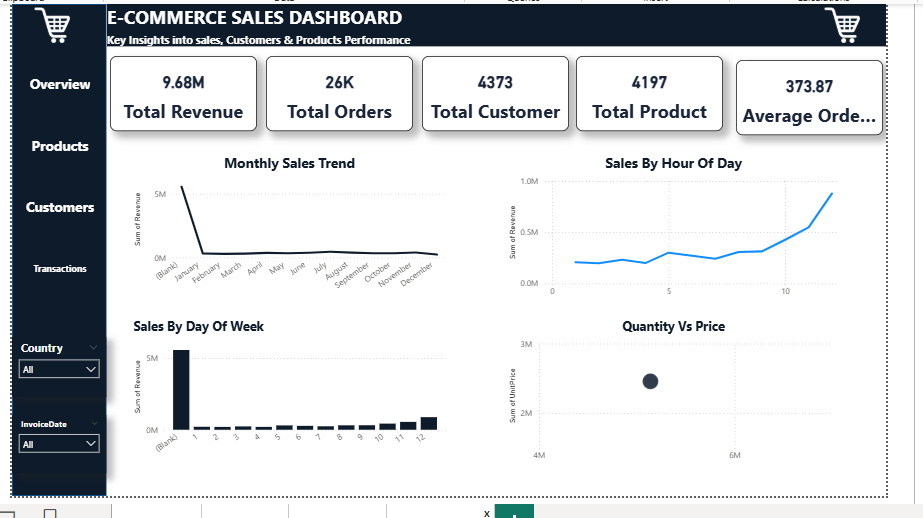

The page's visual inventory and layout, read from the dashboard file:
{"tool":"powerbi","page":{"name":"Transactions","canvas":[1280,720],"ordinal":3},"visuals":[{"type":"shape","box":[0,0,138.3,720],"z":0},{"type":"shape","title":"E-COMMERCE SALES DASHBOARD","box":[138.3,0,1141.7,61.7],"z":1000},{"type":"card","fields":{"Values":["E-commerce .Total Revenue"]},"box":[143.3,76.7,215,110],"z":2000},{"type":"card","fields":{"Values":["E-commerce .Total Orders"]},"box":[371.7,76.7,215,110],"z":3000},{"type":"card","fields":{"Values":["E-commerce .Total Customer"]},"box":[600,76.7,215,110],"z":4000},{"type":"card","fields":{"Values":["E-commerce .Total Product"]},"box":[825,76.7,215,110],"z":5000},{"type":"card","fields":{"Values":["E-commerce .Average Order Value"]},"box":[1060,81.7,215,110],"z":6000},{"type":"lineChart","title":"Monthly Sales Trend","fields":{"Category":["E-commerce .InvoiceDate.Variation.Date Hierarchy.Month"],"Y":["Sum(E-commerce .Revenue)"]},"box":[173.3,218.3,466.7,230],"z":7000},{"type":"lineChart","title":"Sales By Hour Of Day","fields":{"Category":["E-commerce .InvoiceDate.Variation.Date Hierarchy.Day"],"Y":["Sum(E-commerce .Revenue)"]},"box":[721.7,218.3,493.3,230],"z":8000},{"type":"scatterChart","title":"Quantity Vs Price","fields":{"Y":["Sum(E-commerce .UnitPrice)"],"X":["Sum(E-commerce .Quantity)"],"Size":["Sum(E-commerce .Revenue)"]},"box":[721.7,458.3,493.3,230],"z":9000},{"type":"clusteredColumnChart","title":"Sales By Day Of Week","fields":{"Y":["Sum(E-commerce .Revenue)"],"Category":["E-commerce .InvoiceDate.Variation.Date Hierarchy.Day"]},"box":[173.3,458.3,466.7,230],"z":11000},{"type":"slicer","fields":{"Values":["E-commerce .Country"]},"box":[0,486.7,138.3,86.7],"z":12000},{"type":"slicer","fields":{"Values":["E-commerce .InvoiceDate"]},"box":[0,601.7,138.3,85],"z":13000},{"type":"pageNavigator","box":[10,76.7,120,353.3],"z":14000},{"type":"image","box":[1183.3,0,61.7,61.7],"z":15000},{"type":"image","box":[28.3,0,61.7,61.7],"z":16000}]}

Visuals, with their boxes on the page's 1280x720 design canvas (x1, y1, x2, y2). These are canvas units, not pixel positions in the 923x518 screenshot, which may show the page scaled, cropped or inside an application window:
shape: [left=0, top=0, right=138, bottom=720]
"E-COMMERCE SALES DASHBOARD" shape: [left=138, top=0, right=1280, bottom=62]
card - E-commerce .Total Revenue: [left=143, top=77, right=358, bottom=187]
card - E-commerce .Total Orders: [left=372, top=77, right=587, bottom=187]
card - E-commerce .Total Customer: [left=600, top=77, right=815, bottom=187]
card - E-commerce .Total Product: [left=825, top=77, right=1040, bottom=187]
card - E-commerce .Average Order Value: [left=1060, top=82, right=1275, bottom=192]
"Monthly Sales Trend" lineChart: [left=173, top=218, right=640, bottom=448]
"Sales By Hour Of Day" lineChart: [left=722, top=218, right=1215, bottom=448]
"Quantity Vs Price" scatterChart: [left=722, top=458, right=1215, bottom=688]
"Sales By Day Of Week" clusteredColumnChart: [left=173, top=458, right=640, bottom=688]
slicer - E-commerce .Country: [left=0, top=487, right=138, bottom=573]
slicer - E-commerce .InvoiceDate: [left=0, top=602, right=138, bottom=687]
pageNavigator: [left=10, top=77, right=130, bottom=430]
image: [left=1183, top=0, right=1245, bottom=62]
image: [left=28, top=0, right=90, bottom=62]
